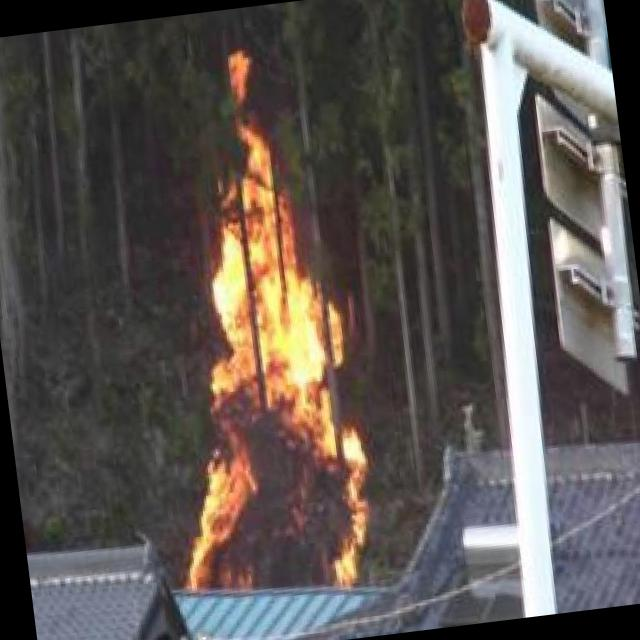Fire: (142, 132, 378, 600)
